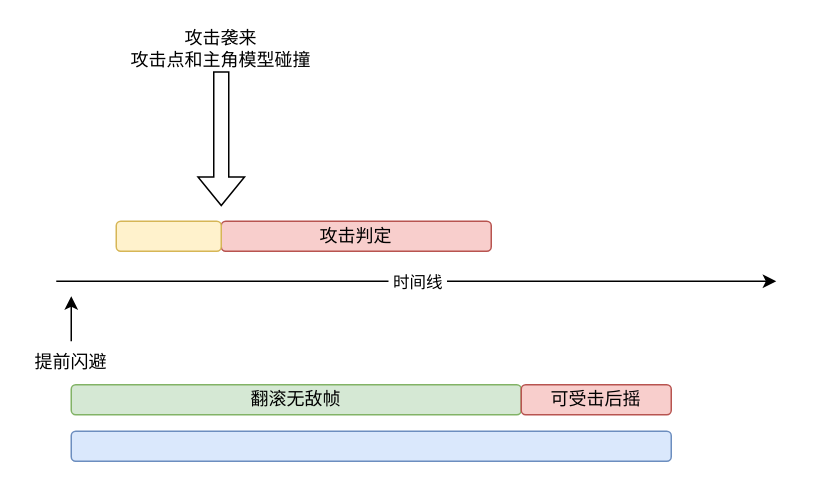
Image size: 815x488. Some labels were removed from this diagram. The shapes that lost their labels are listed below. From the top down, each one's centre as x and y in pixels, then its label:
At point (168, 235): "预判".
At point (370, 445): "翻滚动作".
